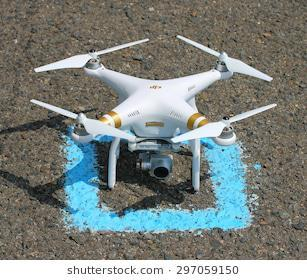drone: (28, 34, 278, 192)
